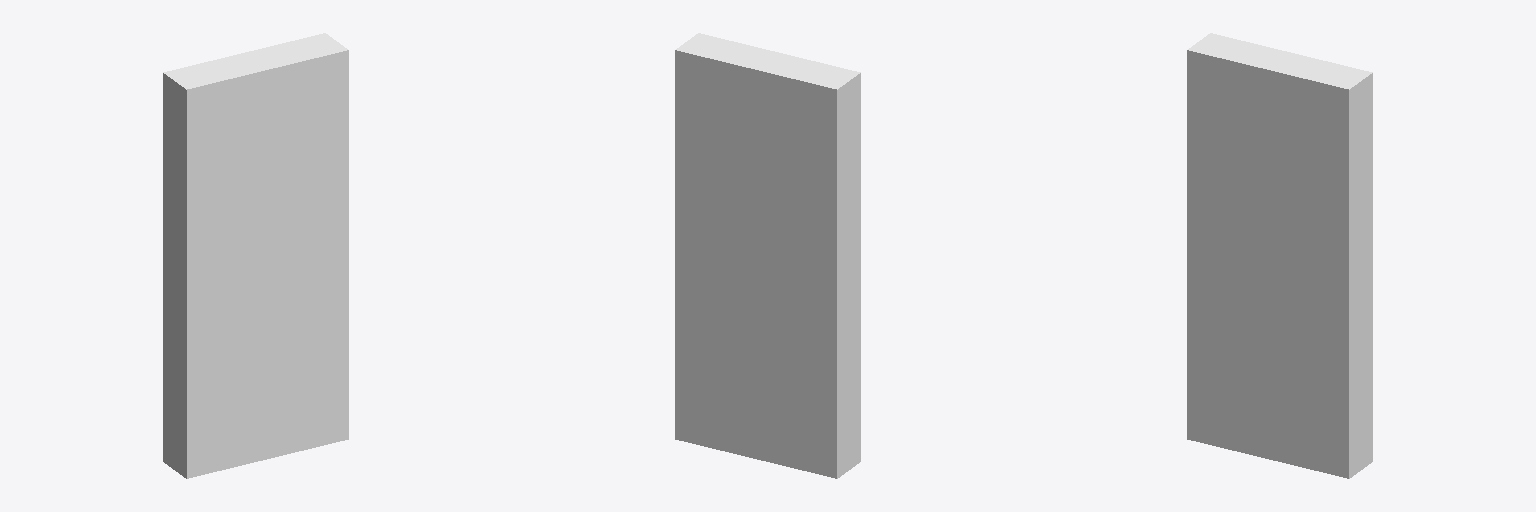
Rendered from original-37.obj.
The picture shows the model from 3 angles: view 1: azimuth 30°, elevation 25°; view 2: azimuth 150°, elevation 25°; view 3: azimuth 330°, elevation 25°; orthographic projection.
Parts seen in each view (by area): view 1: DF_12_L1/DF_12_L/mesh25/mesh25-geometry#mesh25-geometry; view 2: DF_12_L1/DF_12_L/mesh25/mesh25-geometry#mesh25-geometry; view 3: DF_12_L1/DF_12_L/mesh25/mesh25-geometry#mesh25-geometry.
Boxes of the visible parts, <box> form: DF_12_L1/DF_12_L/mesh25/mesh25-geometry#mesh25-geometry: <box>163,33,348,478</box>; DF_12_L1/DF_12_L/mesh25/mesh25-geometry#mesh25-geometry: <box>675,33,860,478</box>; DF_12_L1/DF_12_L/mesh25/mesh25-geometry#mesh25-geometry: <box>1187,33,1372,478</box>.
Size of the model in its own units: 0.1155 by 0.2648 by 0.0289.